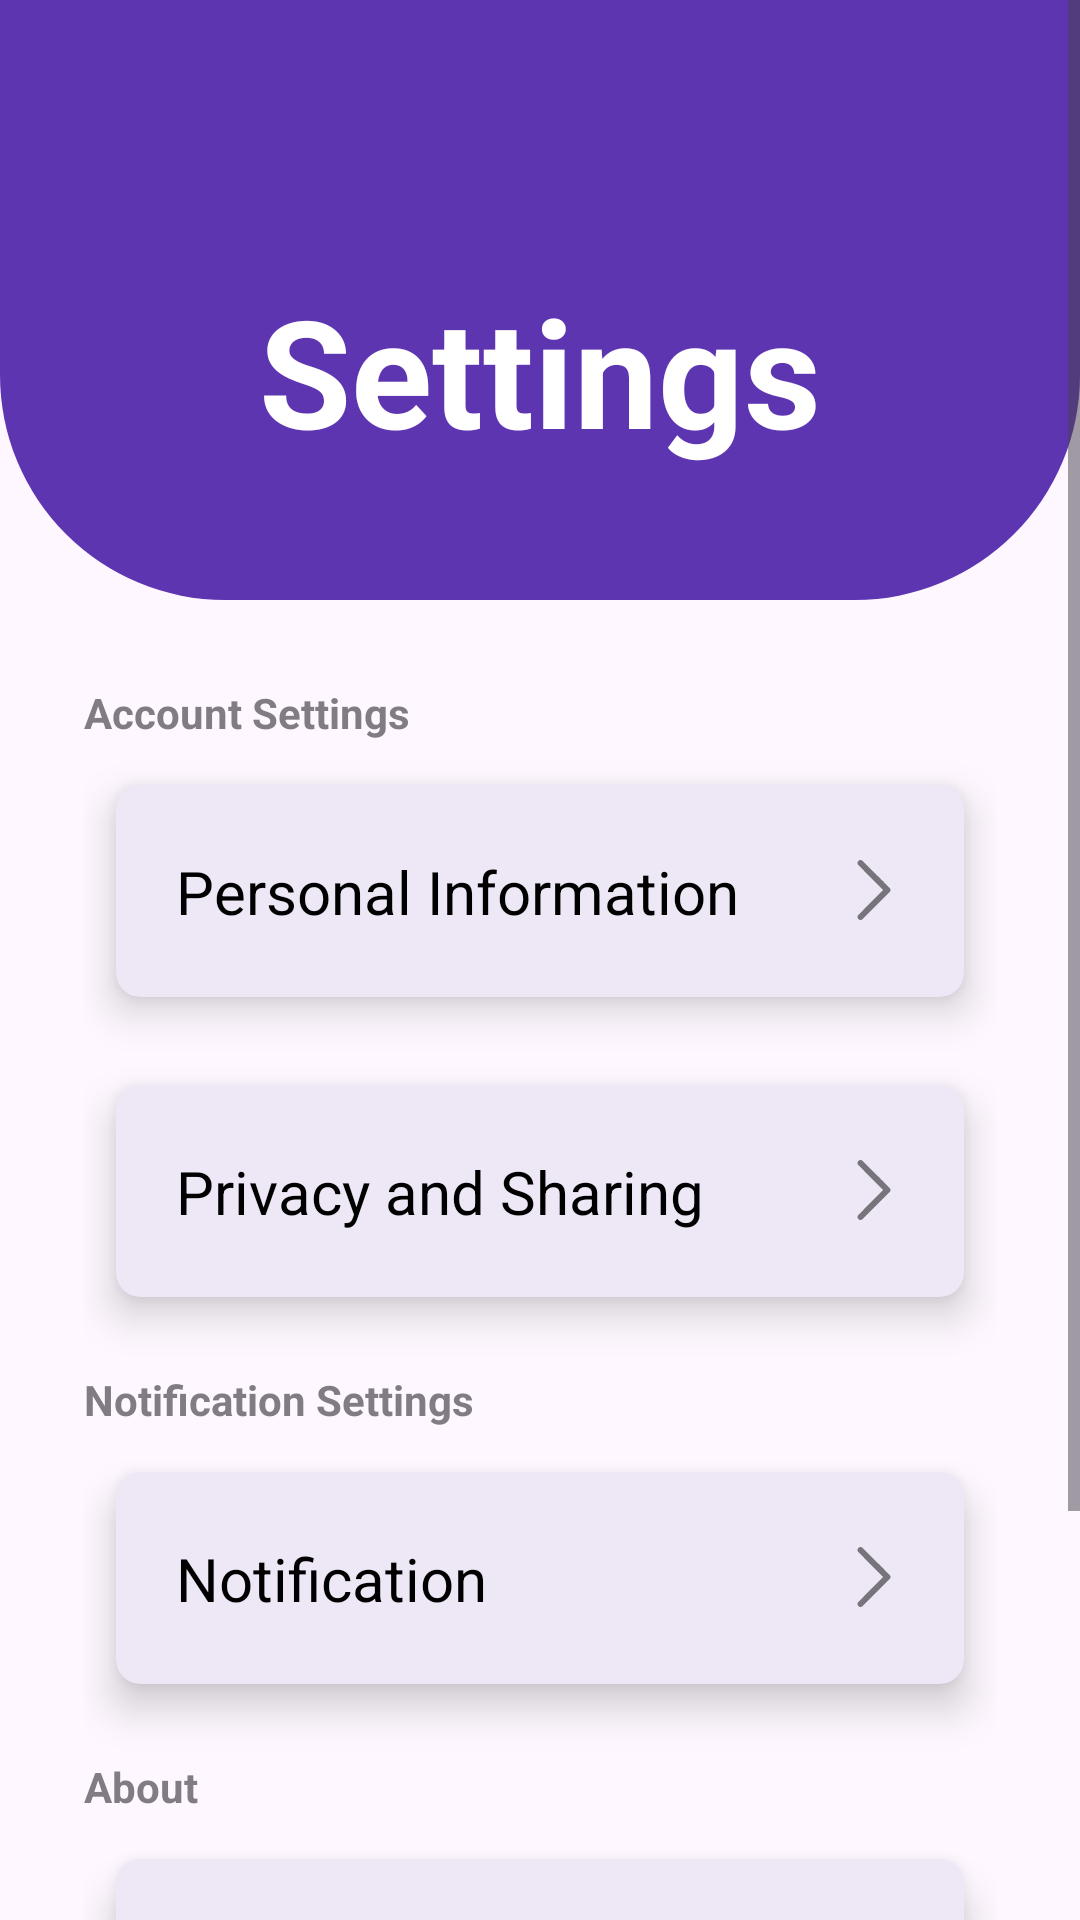

Where to tap for icons on this 1080x1920 app screen, as (x,y):
next: (874,890), (874,1190), (874,1577)
